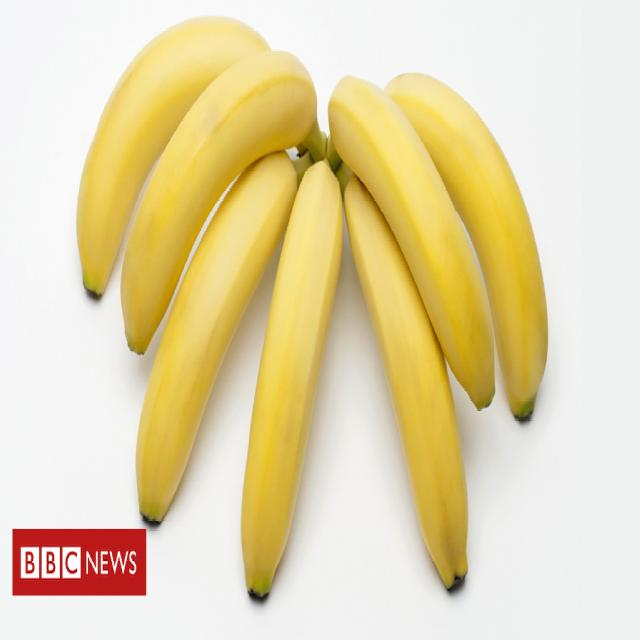banana: (76, 14, 554, 614)
